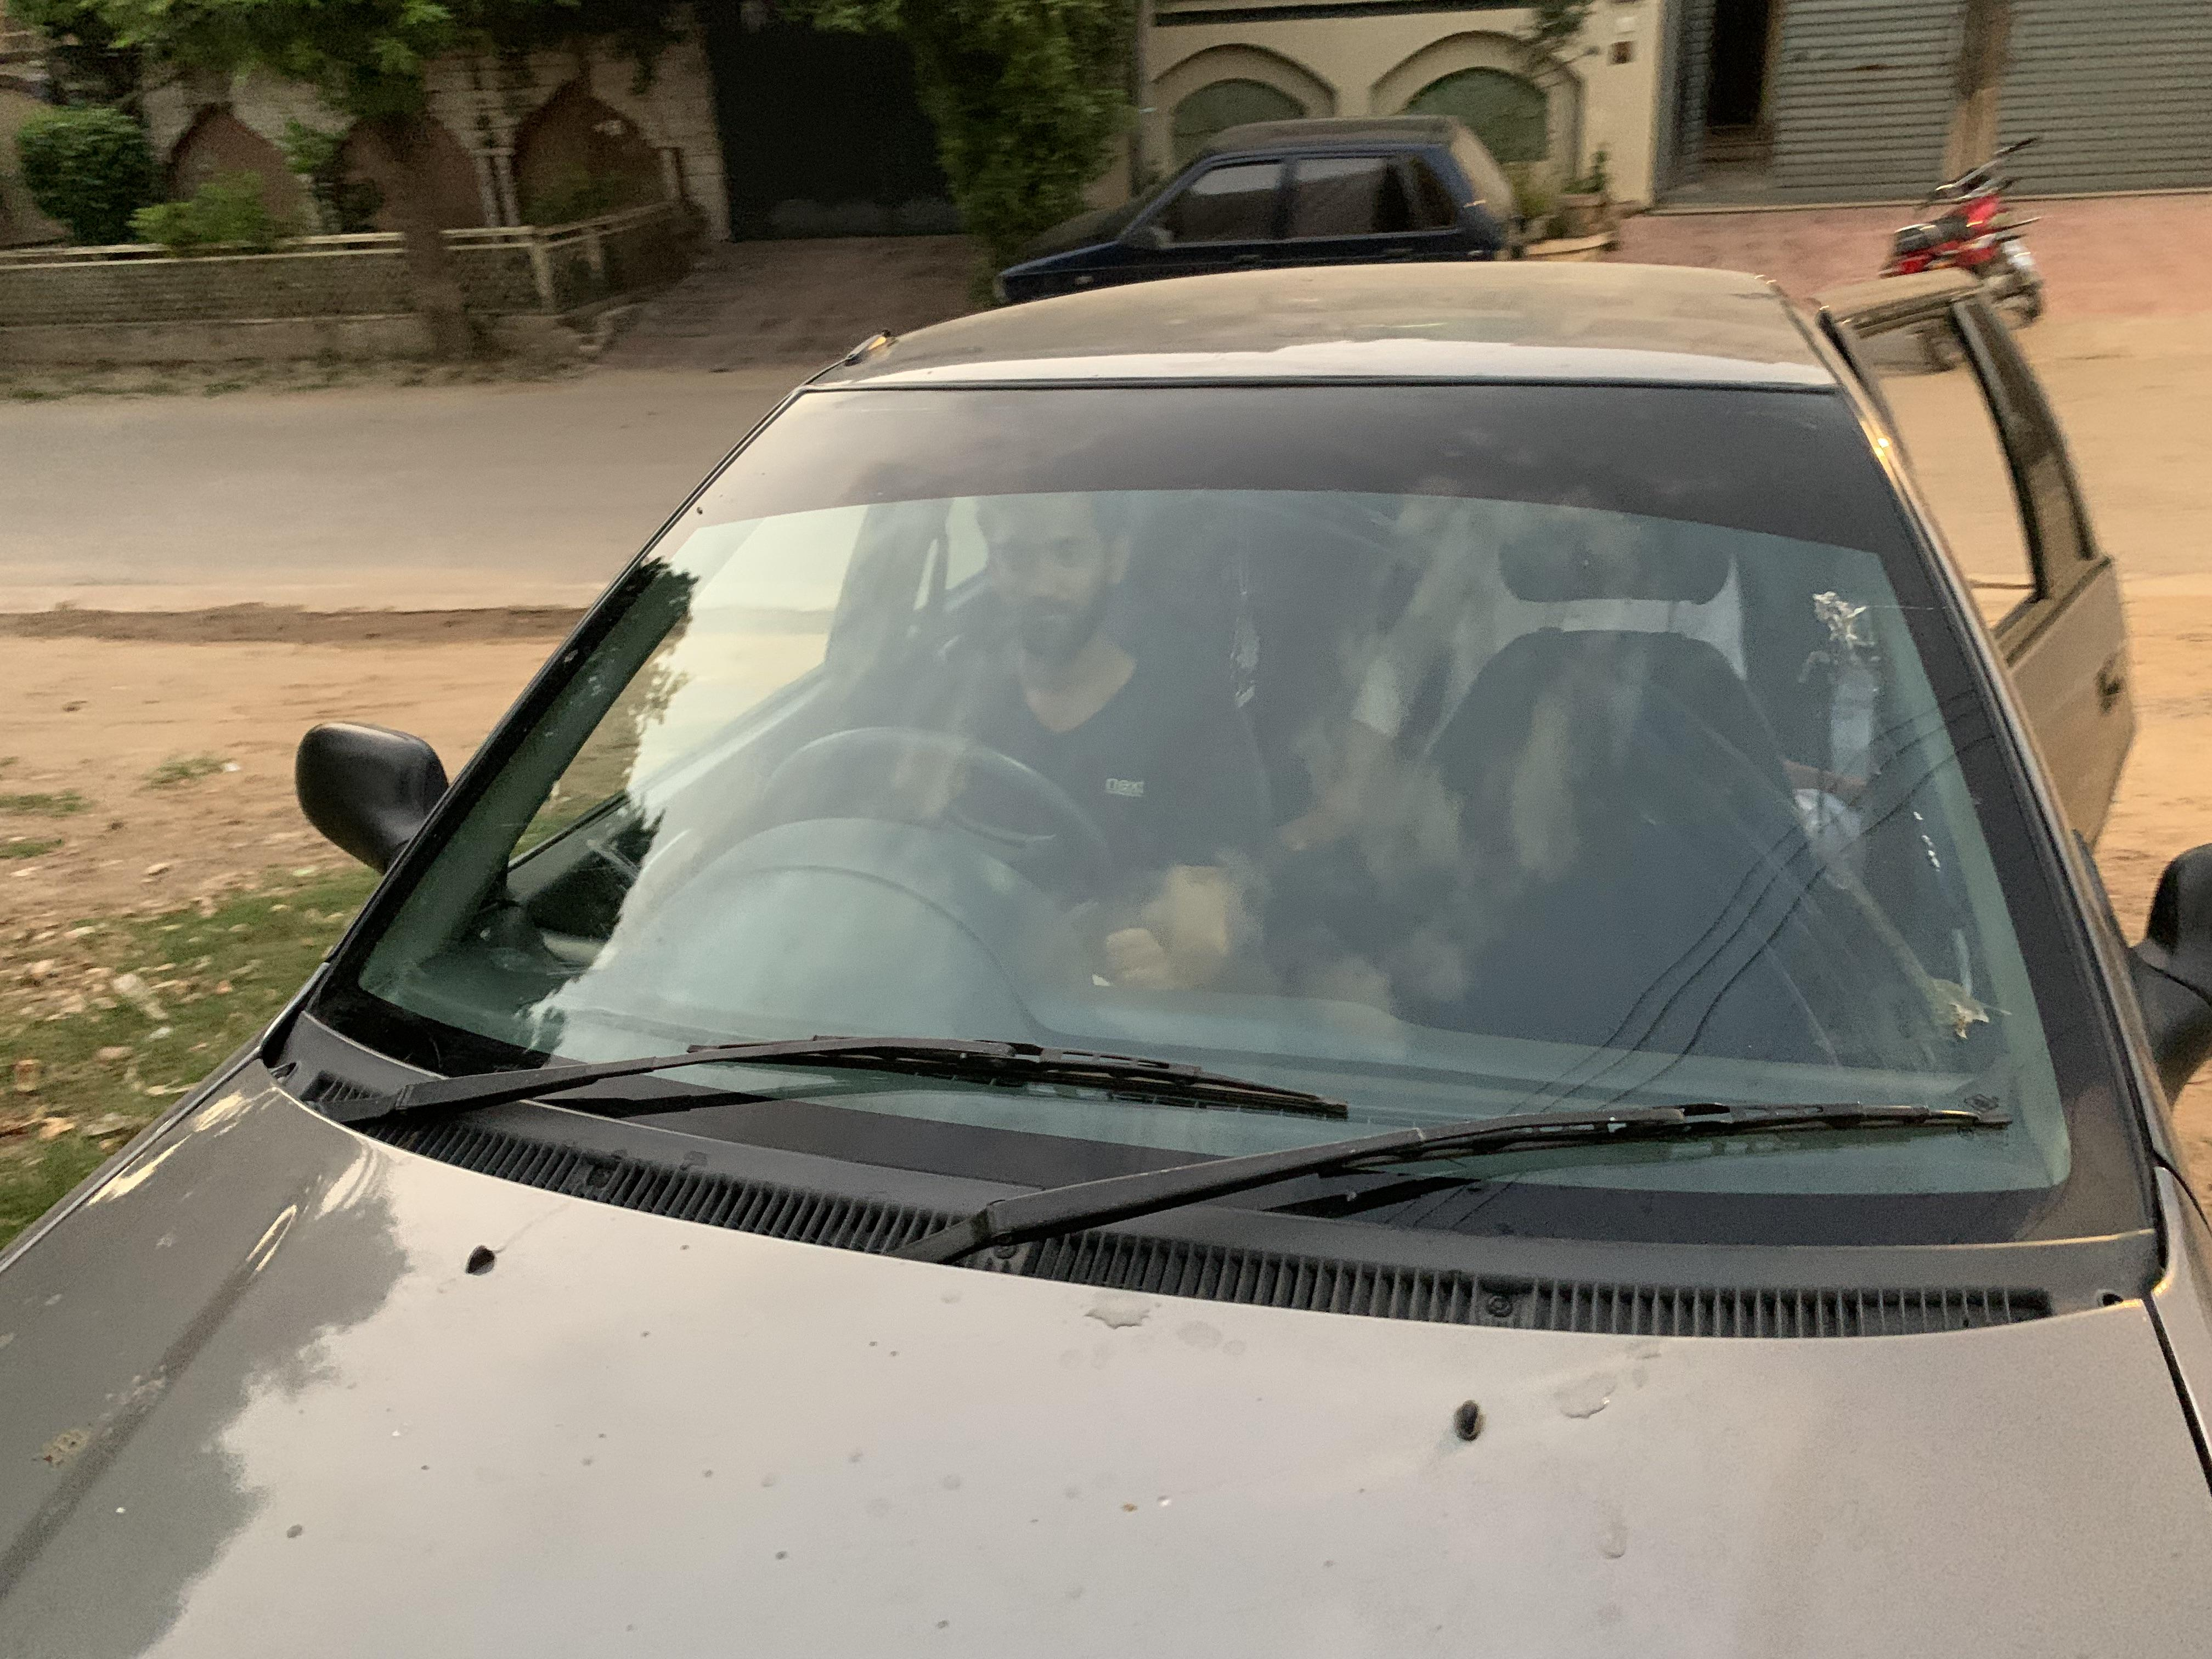windshield: (226, 350, 2212, 1272)
